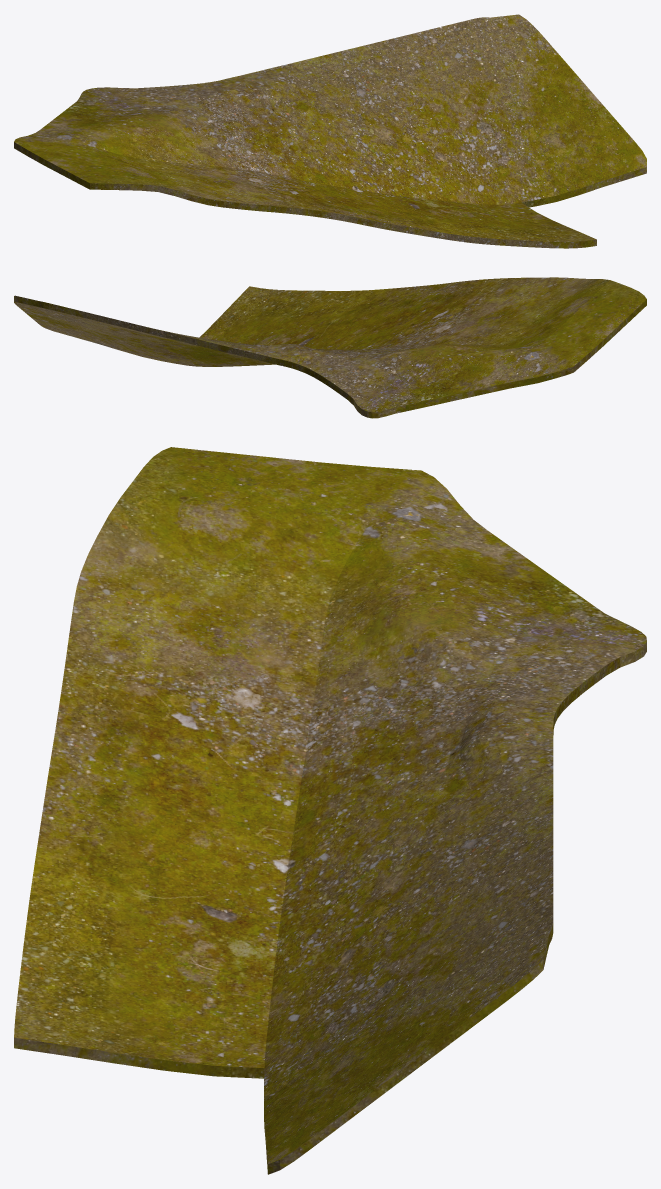
Rendered from BackgroundHill.obj.
3 renders of one model, top to bottom at view 1: azimuth 30°, elevation 25°; view 2: azimuth 150°, elevation 25°; view 3: azimuth 270°, elevation 25°, orthographic. The views are drawn at different scales.
Visible parts, largest first — view 1: Background_Hill; view 2: Background_Hill; view 3: Background_Hill.
Boxes of the visible parts, x1,y1,x2,y2 form: Background_Hill: [14, 14, 646, 248]; Background_Hill: [14, 277, 646, 418]; Background_Hill: [14, 447, 646, 1174].
Bounding box in the file's own units: 1.38 × 0.3597 × 0.7786.
